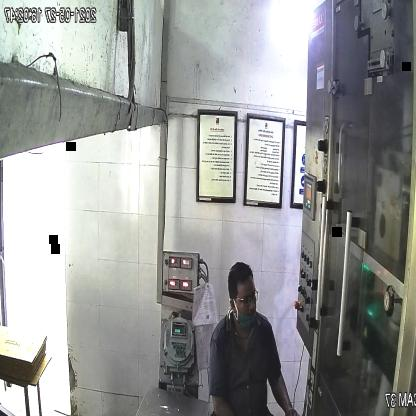goggles: (230, 289, 260, 312)
